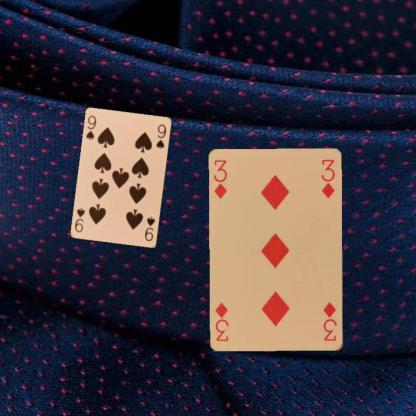3d: (320, 299, 338, 342), (211, 157, 228, 200)
9s: (142, 214, 156, 243), (84, 113, 98, 142)
